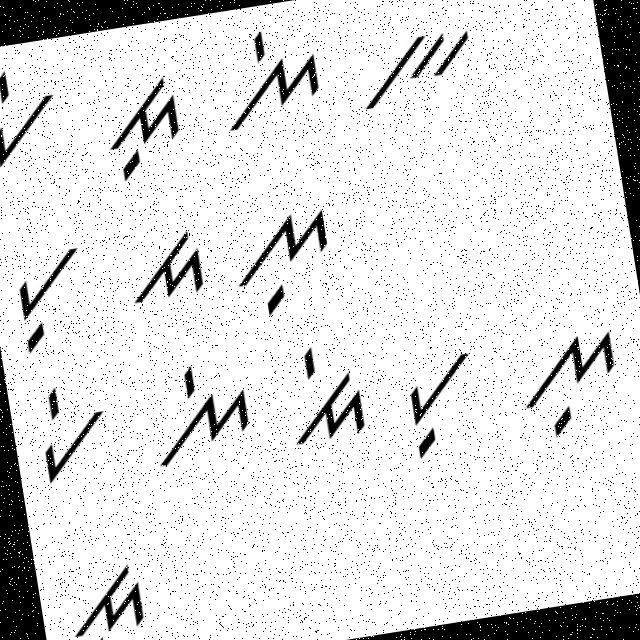da: (118, 222, 212, 310)
de: (278, 333, 376, 452)
du: (92, 67, 194, 187), (52, 549, 170, 639)
ne: (202, 18, 334, 142), (135, 358, 260, 482)
nu: (504, 313, 630, 448), (222, 197, 346, 324)
pe: (24, 376, 119, 486), (0, 57, 66, 172)
pu: (389, 338, 486, 468), (2, 235, 101, 358)
